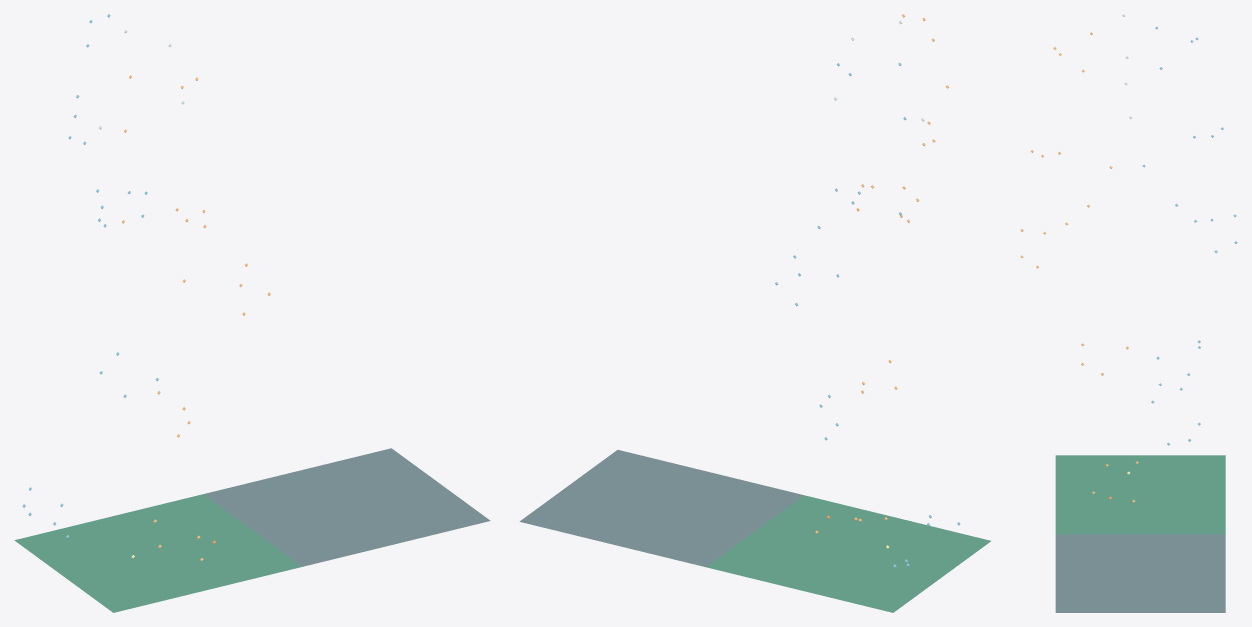
The model's file is pose-49.glb.
3 renders of one model, left to right at view 1: azimuth 30°, elevation 25°; view 2: azimuth 150°, elevation 25°; view 3: azimuth 270°, elevation 25°, orthographic. The views are drawn at different scales.
Visible parts, largest first — view 1: Plate 1 surface, Plate 2 surface; view 2: Plate 1 surface, Plate 2 surface; view 3: Plate 1 surface, Plate 2 surface.
Boxes of the visible parts, box(x1,y1,x2,y2) form: Plate 1 surface: box(14, 494, 301, 612); Plate 2 surface: box(203, 448, 490, 566); Plate 1 surface: box(706, 495, 990, 612); Plate 2 surface: box(519, 450, 803, 567); Plate 1 surface: box(1055, 455, 1225, 534); Plate 2 surface: box(1055, 534, 1225, 612).
Bounding box in the file's own units: 1.1 × 1.4 × 0.5942.
